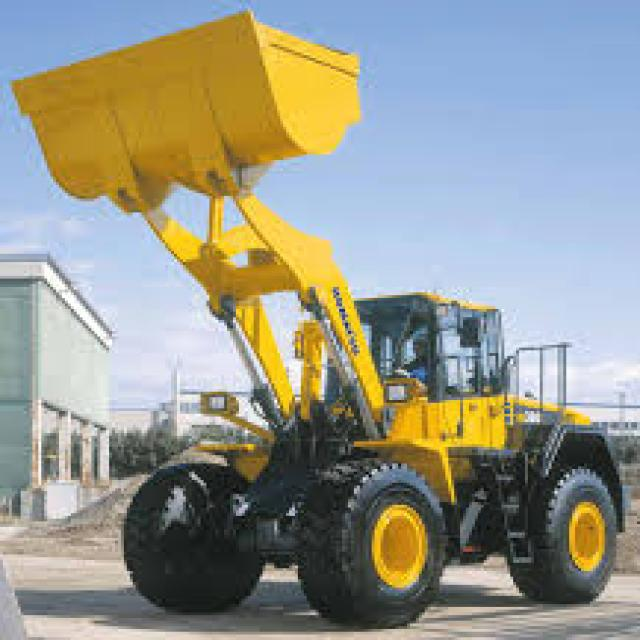buldozerpayloadergrader: (15, 7, 628, 628)
